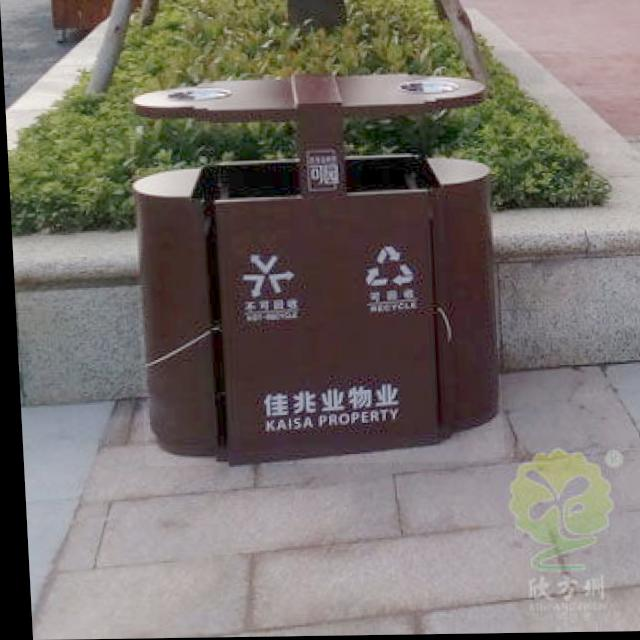garbage_bin: (125, 75, 500, 467)
